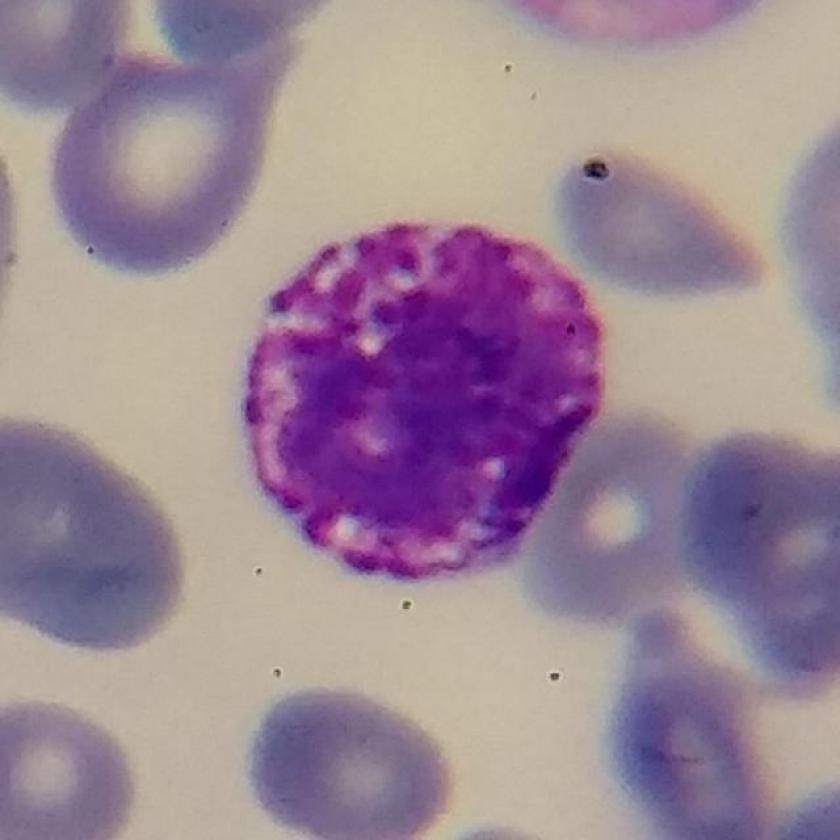basophil: (240, 196, 616, 595)
